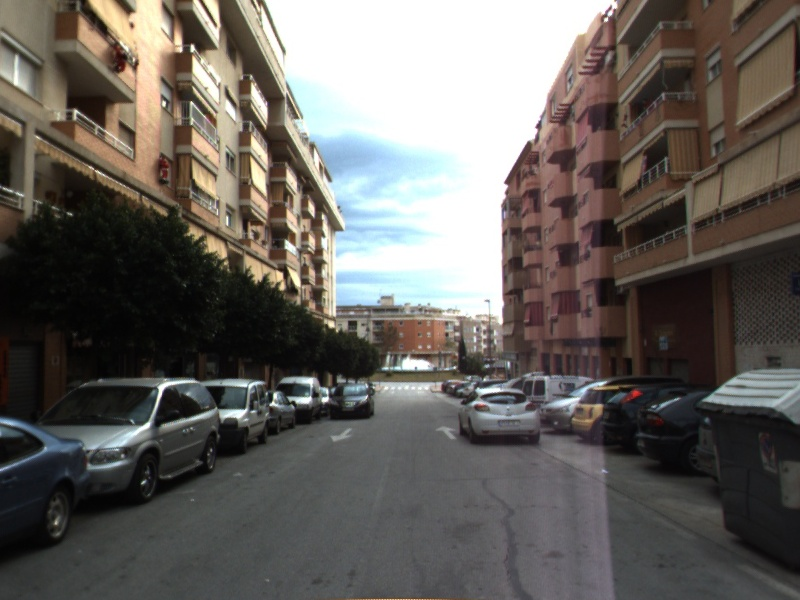STRAIGHT: (433, 423, 459, 441)
